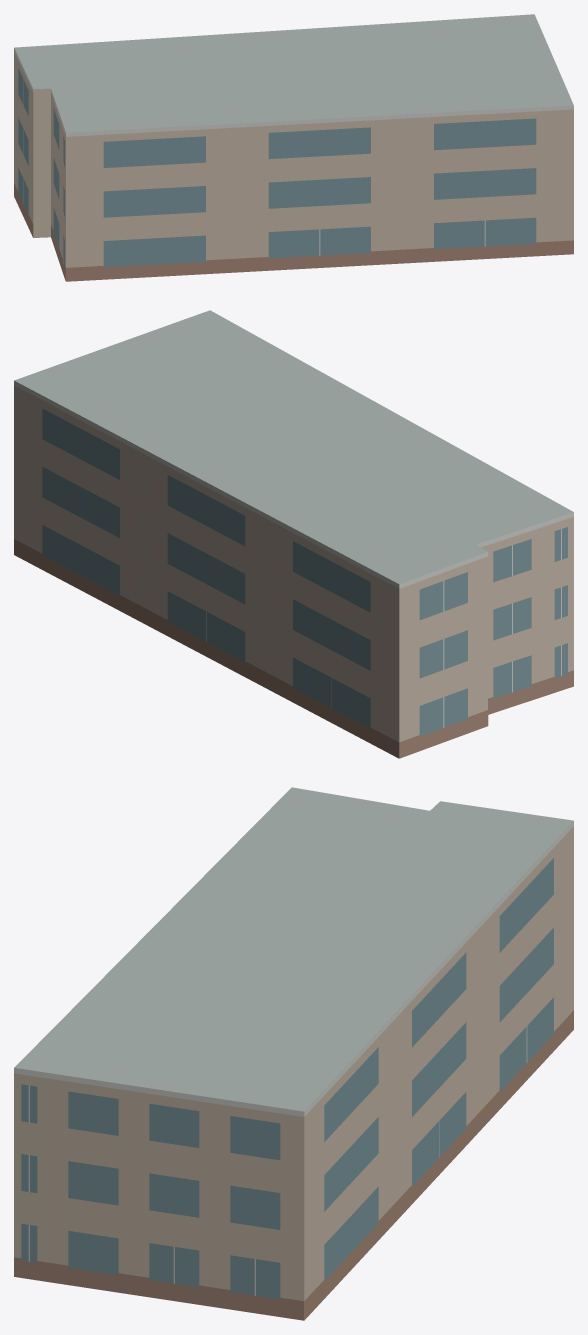
The model's file is survey-upis-33012499.glb.
3 renders of one model, top to bottom at view 1: azimuth 30°, elevation 25°; view 2: azimuth 150°, elevation 25°; view 3: azimuth 270°, elevation 25°, orthographic. The views are drawn at different scales.
Parts seen in each view (by area): view 1: survey-upis-33012499.tmp; view 2: survey-upis-33012499.tmp; view 3: survey-upis-33012499.tmp.
Boxes of the visible parts, left/top/right/bottom form: survey-upis-33012499.tmp: left=14, top=14, right=573, bottom=281; survey-upis-33012499.tmp: left=14, top=310, right=573, bottom=758; survey-upis-33012499.tmp: left=14, top=787, right=573, bottom=1320.
Bounding box in the file's own units: 30.45 × 9.15 × 22.21.
